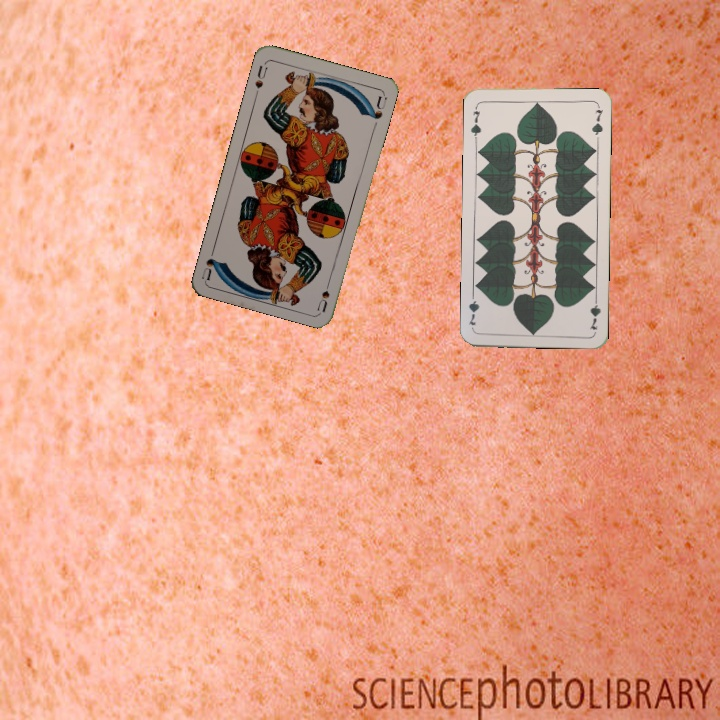G7: (586, 292, 603, 332), (467, 102, 483, 142)
SU: (313, 273, 334, 313), (251, 59, 270, 99)
